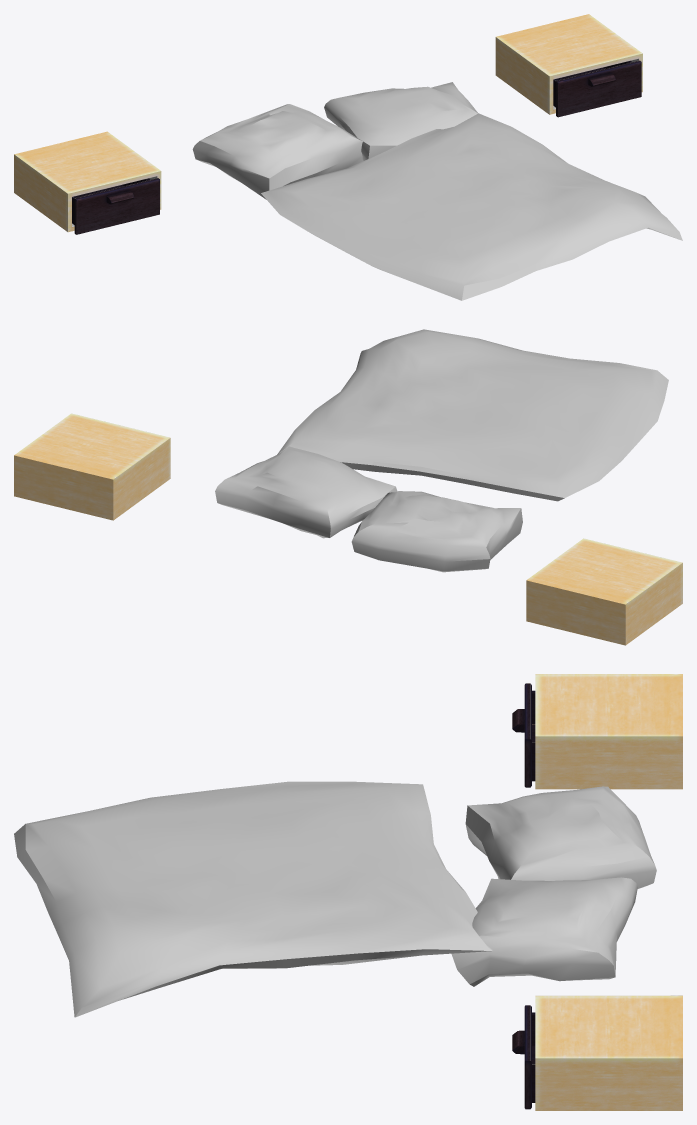
The model's file is MDL_Bedroom_Changed_Models_01.fbx.
The picture shows the model from 3 angles, top to bottom: view 1: azimuth 30°, elevation 25°; view 2: azimuth 150°, elevation 25°; view 3: azimuth 270°, elevation 25°; orthographic projection. The views are drawn at different scales.
Parts seen in each view (by area): view 1: MDL_Bedroom_Bed_01.001, MDL_Bedroom_Bed_01.004, MDL_Bedroom_Cupboard_02.001, MDL_Bedroom_Cupboard_02, MDL_Bedroom_Bed_01, MDL_Bedroom_Cupboard_Drawer_02.001, MDL_Bedroom_Cupboard_Drawer_02; view 2: MDL_Bedroom_Bed_01.001, MDL_Bedroom_Cupboard_02.001, MDL_Bedroom_Cupboard_02, MDL_Bedroom_Bed_01.004, MDL_Bedroom_Bed_01; view 3: MDL_Bedroom_Bed_01.001, MDL_Bedroom_Cupboard_02.001, MDL_Bedroom_Cupboard_02, MDL_Bedroom_Bed_01, MDL_Bedroom_Bed_01.004, MDL_Bedroom_Cupboard_Drawer_02, MDL_Bedroom_Cupboard_Drawer_02.001.
Part boxes in pixels (box(x1,y1,x2,y2)): MDL_Bedroom_Bed_01.001: box(261, 113, 682, 300); MDL_Bedroom_Bed_01.004: box(192, 104, 363, 199); MDL_Bedroom_Cupboard_02.001: box(495, 14, 642, 114); MDL_Bedroom_Cupboard_02: box(14, 131, 161, 232); MDL_Bedroom_Bed_01: box(324, 82, 478, 160); MDL_Bedroom_Cupboard_Drawer_02.001: box(553, 60, 641, 117); MDL_Bedroom_Cupboard_Drawer_02: box(72, 178, 159, 234); MDL_Bedroom_Bed_01.001: box(277, 329, 668, 501); MDL_Bedroom_Cupboard_02.001: box(14, 413, 170, 520); MDL_Bedroom_Cupboard_02: box(526, 538, 682, 645); MDL_Bedroom_Bed_01.004: box(351, 491, 522, 572); MDL_Bedroom_Bed_01: box(215, 446, 397, 538); MDL_Bedroom_Bed_01.001: box(14, 781, 492, 1017); MDL_Bedroom_Cupboard_02.001: box(535, 995, 682, 1110); MDL_Bedroom_Cupboard_02: box(535, 674, 682, 789); MDL_Bedroom_Bed_01: box(451, 877, 637, 986); MDL_Bedroom_Bed_01.004: box(465, 786, 656, 888); MDL_Bedroom_Cupboard_Drawer_02: box(512, 683, 535, 787); MDL_Bedroom_Cupboard_Drawer_02.001: box(512, 1005, 535, 1109).
Bounding box in the file's own units: 385 × 30.93 × 284.
